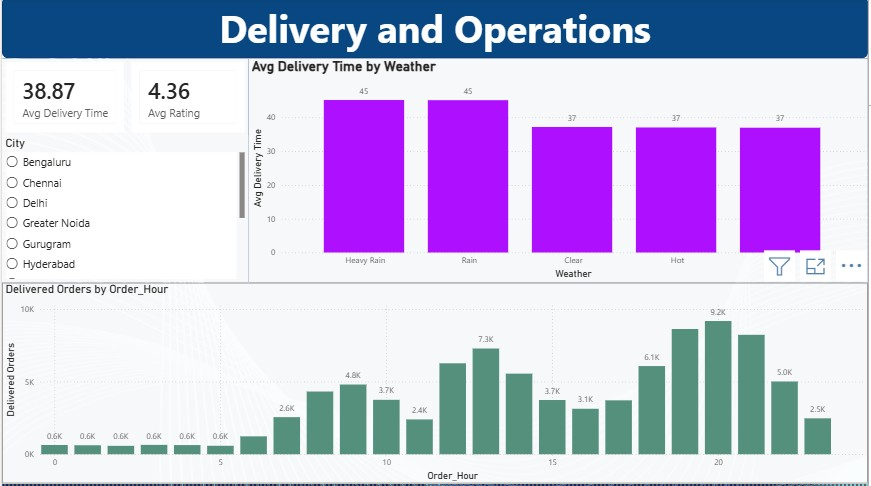

The page's visual inventory and layout, read from the dashboard file:
{"tool":"powerbi","page":{"name":"4_Delivery_Operations","canvas":[1280,720],"ordinal":3},"visuals":[{"type":"shape","box":[0,0,1280.3,90.6],"z":0},{"type":"cardVisual","fields":{"Data":["orders.Avg Delivery Time"]},"box":[0,91,185.9,114.3],"z":1},{"type":"cardVisual","fields":{"Data":["orders.Avg Rating"]},"box":[185.9,91,178.2,114.3],"z":2},{"type":"clusteredColumnChart","fields":{"Category":["orders.Weather"],"Y":["orders.Avg Delivery Time"]},"box":[364.1,91,916.1,331.2],"z":3},{"type":"clusteredColumnChart","fields":{"Category":["orders.Order_Hour"],"Y":["orders.Delivered Orders"]},"box":[0,422.2,1280.3,298.3],"z":4},{"type":"listSlicer","fields":{"Values":["orders.City"]},"box":[0,205.3,364.1,216.9],"z":5}]}

Visuals, with their boxes in screenshot pixels (x1, y1, x2, y2), scaled from the page's 1280x720 canvas onto the 871x486 screenshot:
shape: region(0, 0, 870, 61)
cardVisual - orders.Avg Delivery Time: region(0, 61, 126, 139)
cardVisual - orders.Avg Rating: region(126, 61, 248, 139)
clusteredColumnChart - orders.Weather x orders.Avg Delivery Time: region(248, 61, 870, 285)
clusteredColumnChart - orders.Order_Hour x orders.Delivered Orders: region(0, 285, 870, 485)
listSlicer - orders.City: region(0, 139, 248, 285)
